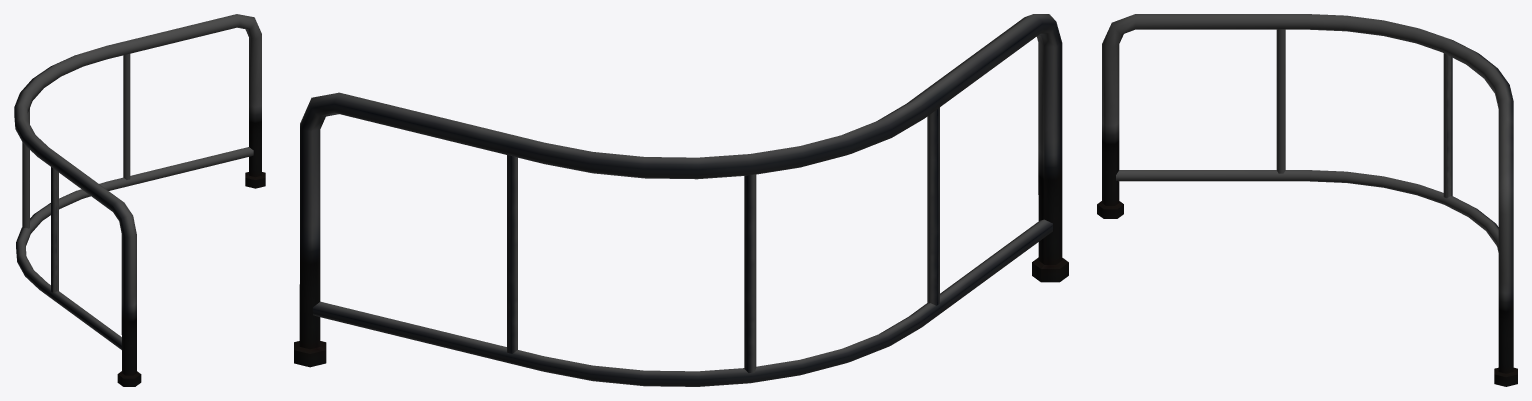
File: Railing_03.FBX
3 views of the same model, side by side, from view 1: azimuth 30°, elevation 25°; view 2: azimuth 150°, elevation 25°; view 3: azimuth 270°, elevation 25° (orthographic). The views are drawn at different scales.
Visible parts, largest first — view 1: Railing_03; view 2: Railing_03; view 3: Railing_03.
Part boxes in pixels (<box>): Railing_03: <box>14,14,265,386</box>; Railing_03: <box>294,14,1068,386</box>; Railing_03: <box>1097,14,1517,386</box>.
Bounding box in the file's own units: 195 × 102 × 195.
